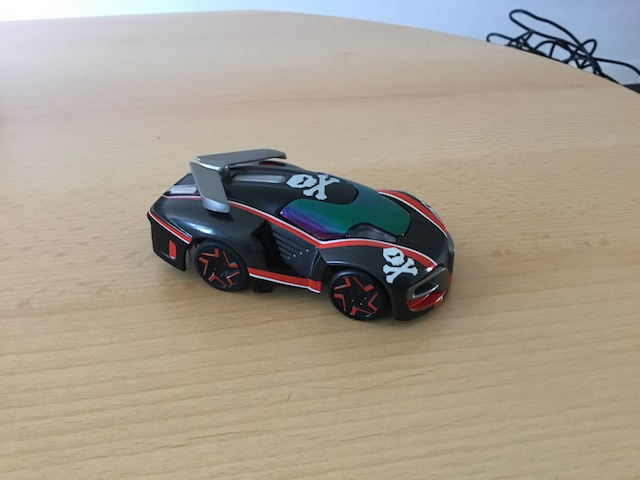car-red: (142, 143, 459, 327)
